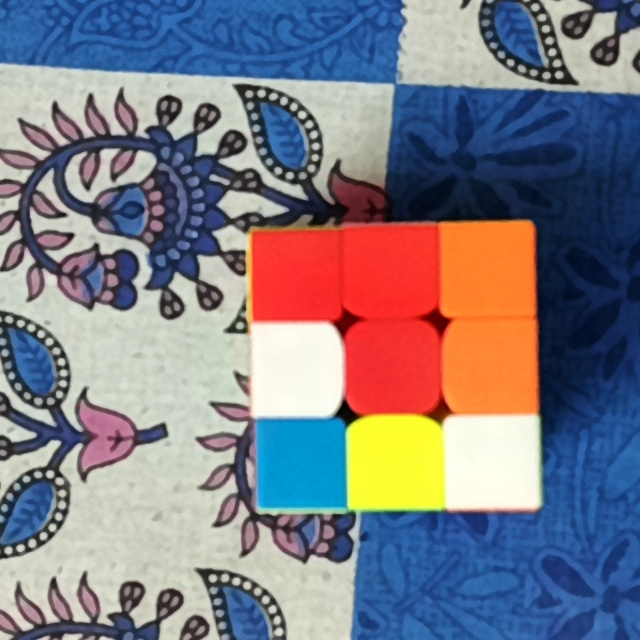tile: (255, 237, 338, 315), (259, 427, 343, 504), (448, 231, 533, 307), (454, 328, 533, 406), (352, 231, 432, 307), (352, 333, 435, 405), (453, 427, 536, 497), (357, 427, 437, 499), (259, 335, 331, 408)
